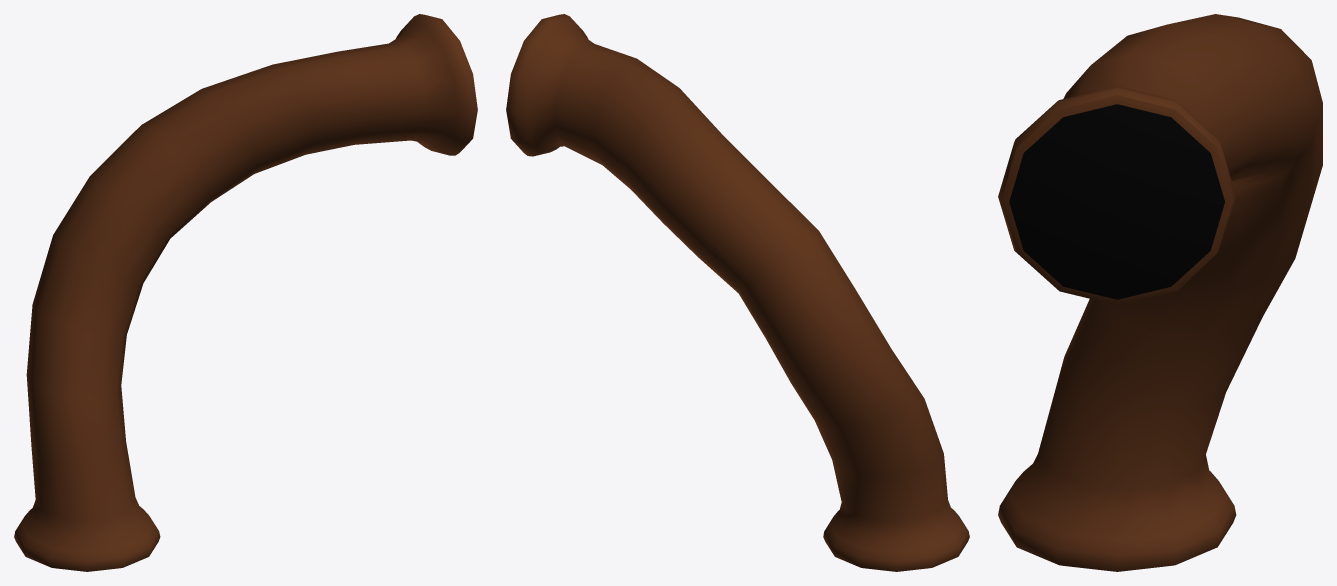
File: Pipe_Curve_2x2_Bent_L.fbx
3 views of the same model, side by side, from view 1: azimuth 30°, elevation 25°; view 2: azimuth 150°, elevation 25°; view 3: azimuth 270°, elevation 25° (orthographic). The views are drawn at different scales.
Visible parts, largest first — view 1: Pipe_Curve_2x2_Bent_L; view 2: Pipe_Curve_2x2_Bent_L; view 3: Pipe_Curve_2x2_Bent_L.
Boxes of the visible parts, x1,y1,x2,y2 form: Pipe_Curve_2x2_Bent_L: (14,14,477,571); Pipe_Curve_2x2_Bent_L: (506,14,969,571); Pipe_Curve_2x2_Bent_L: (998,14,1322,571).
Size of the model in its own units: 236 by 236 by 96.89.
